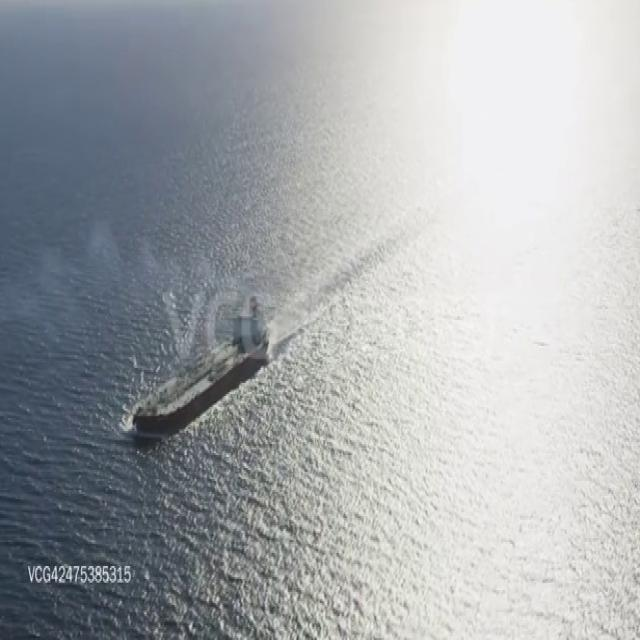cargoship: (131, 292, 269, 438)
